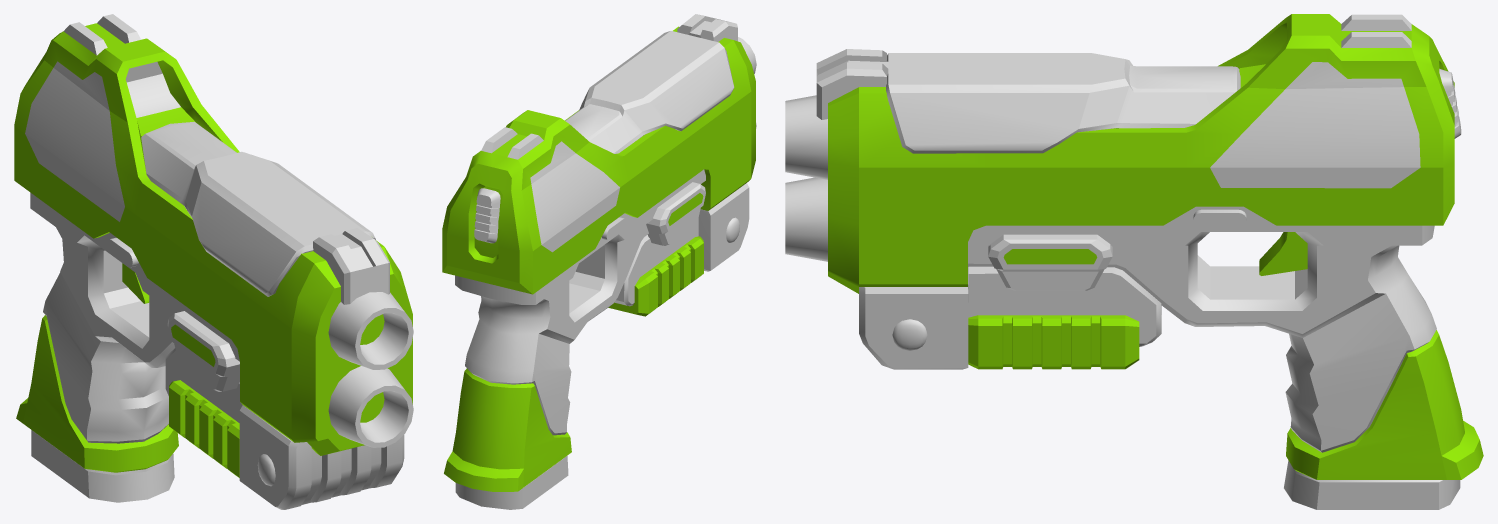
The model's file is Pistol B Mat.fbx.
3 renders of one model, left to right at view 1: azimuth 30°, elevation 25°; view 2: azimuth 150°, elevation 25°; view 3: azimuth 270°, elevation 25°, orthographic. The views are drawn at different scales.
Parts seen in each view (by area): view 1: Pistol B Mat; view 2: Pistol B Mat; view 3: Pistol B Mat.
Part boxes in pixels (bbox=[...]): Pistol B Mat: bbox=[14, 14, 413, 509]; Pistol B Mat: bbox=[442, 14, 756, 509]; Pistol B Mat: bbox=[785, 14, 1483, 509].
Bounding box in the file's own units: 0.1619 × 0.5223 × 0.7137.
